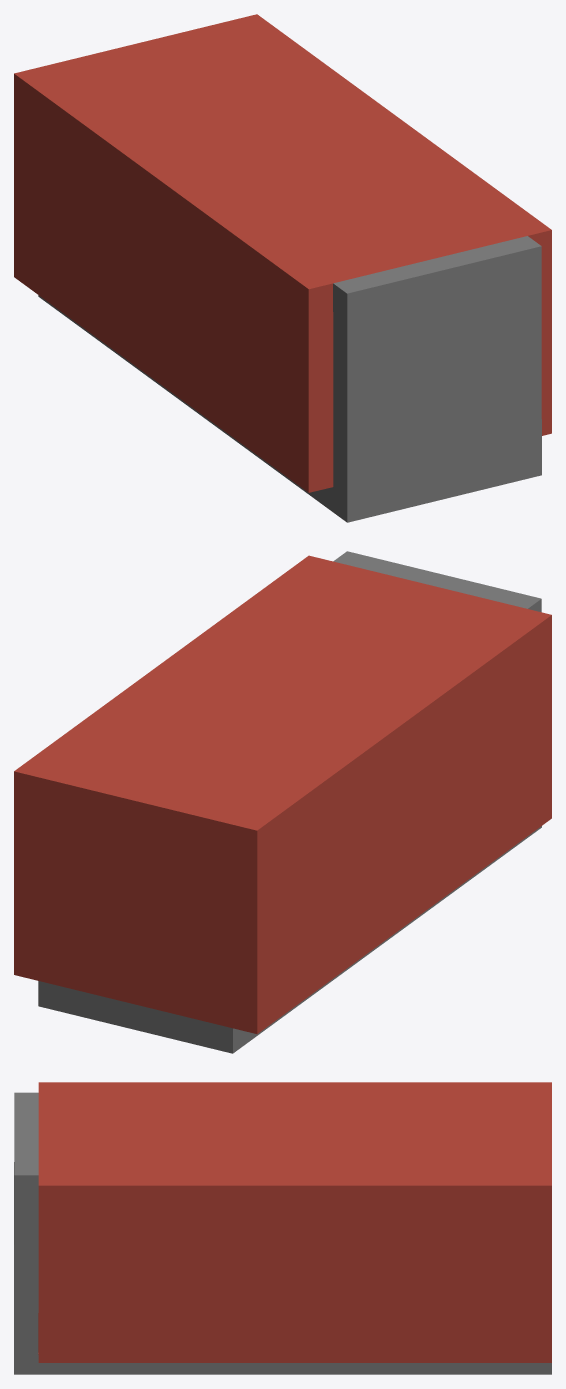
Rendered from brick_1.glb.
3 renders of one model, top to bottom at view 1: azimuth 30°, elevation 25°; view 2: azimuth 150°, elevation 25°; view 3: azimuth 270°, elevation 25°, orthographic. The views are drawn at different scales.
Visible parts, largest first — view 1: brick_1; view 2: brick_1; view 3: brick_1.
Boxes of the visible parts, bbox=[...] form: brick_1: bbox=[14, 14, 551, 522]; brick_1: bbox=[14, 551, 551, 1053]; brick_1: bbox=[14, 1082, 551, 1374].
Size of the model in its own units: 0.4 by 0.36 by 0.8804.
